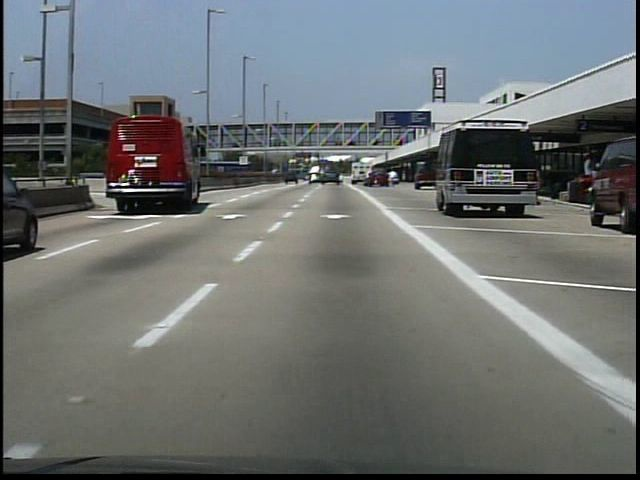person: (387, 168, 401, 190)
